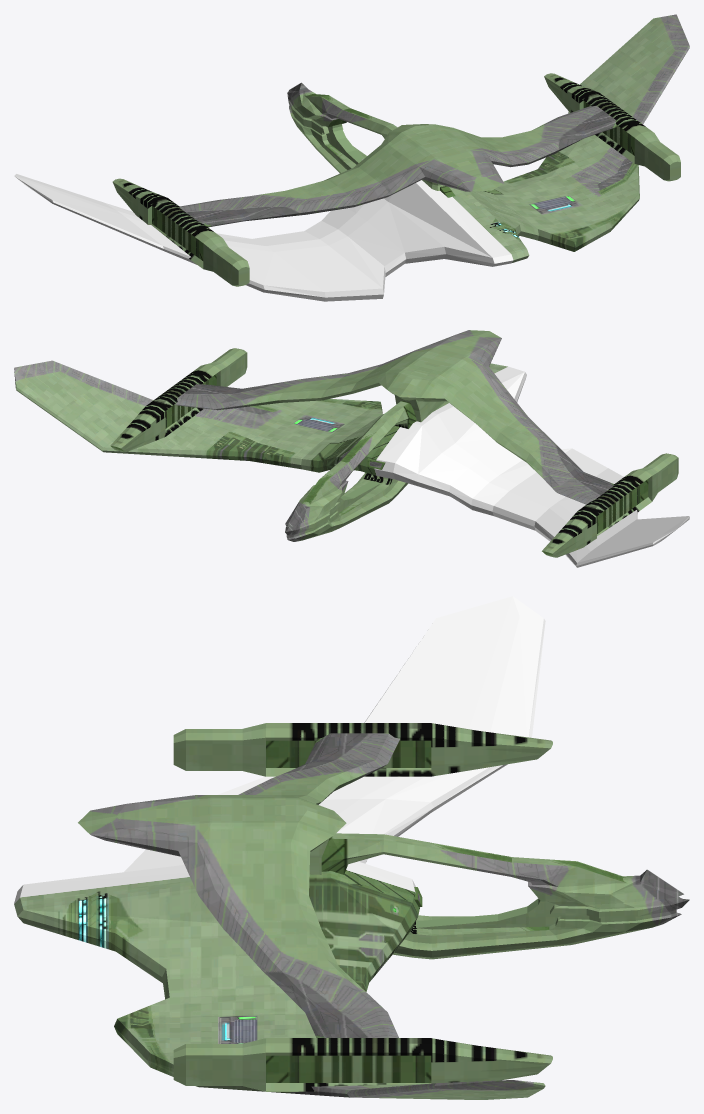
File: Rom_Hveik.fbx
3 views of the same model, one above another, from view 1: azimuth 30°, elevation 25°; view 2: azimuth 150°, elevation 25°; view 3: azimuth 270°, elevation 25° (orthographic). The views are drawn at different scales.
Visible parts, largest first — view 1: Rom_Hveik; view 2: Rom_Hveik; view 3: Rom_Hveik.
Part boxes in pixels (bbox=[...]): Rom_Hveik: bbox=[14, 14, 689, 301]; Rom_Hveik: bbox=[14, 330, 689, 567]; Rom_Hveik: bbox=[14, 596, 689, 1099].
Bounding box in the file's own units: 729 × 111 × 431.
Materials: 1 (1 with a texture image).
